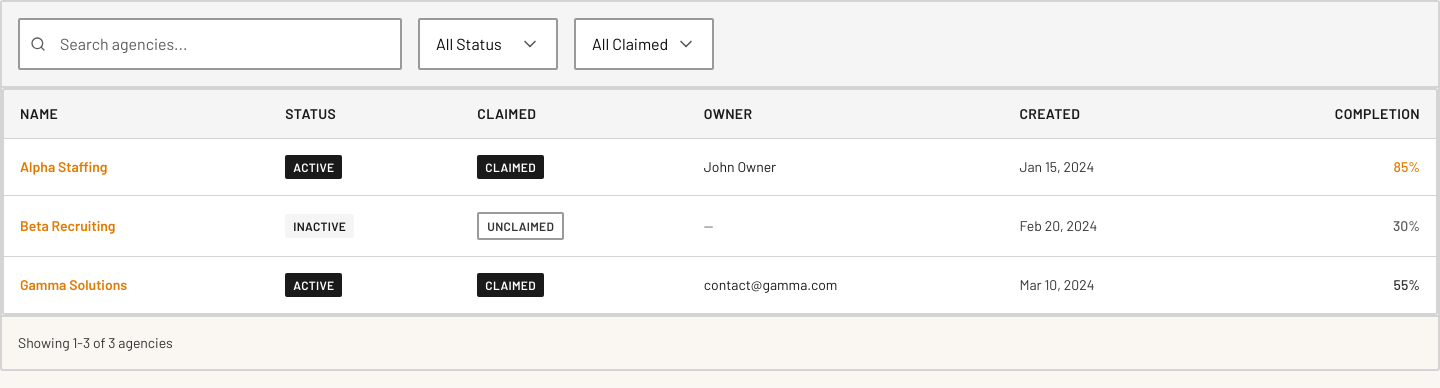
Test case: AdminAgenciesTable › Search Filtering › shows empty state when no agencies match search
In the field with test id "agency-search-input": (210, 44) top-left (18, 18), bottom-right (402, 70), type "NonExistent"
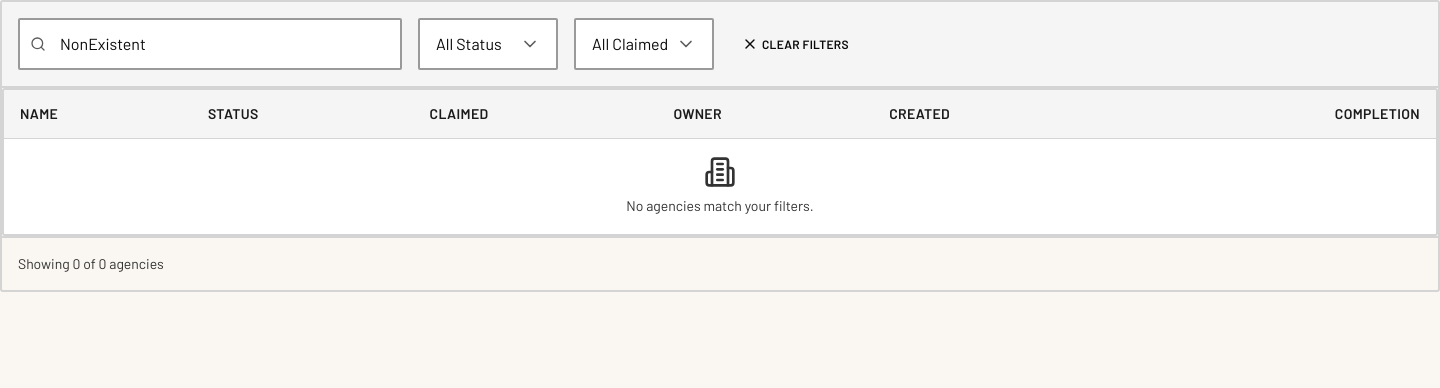
Expected: the text "No agencies match your filters." is shown, top-left (626, 196), bottom-right (814, 216)
